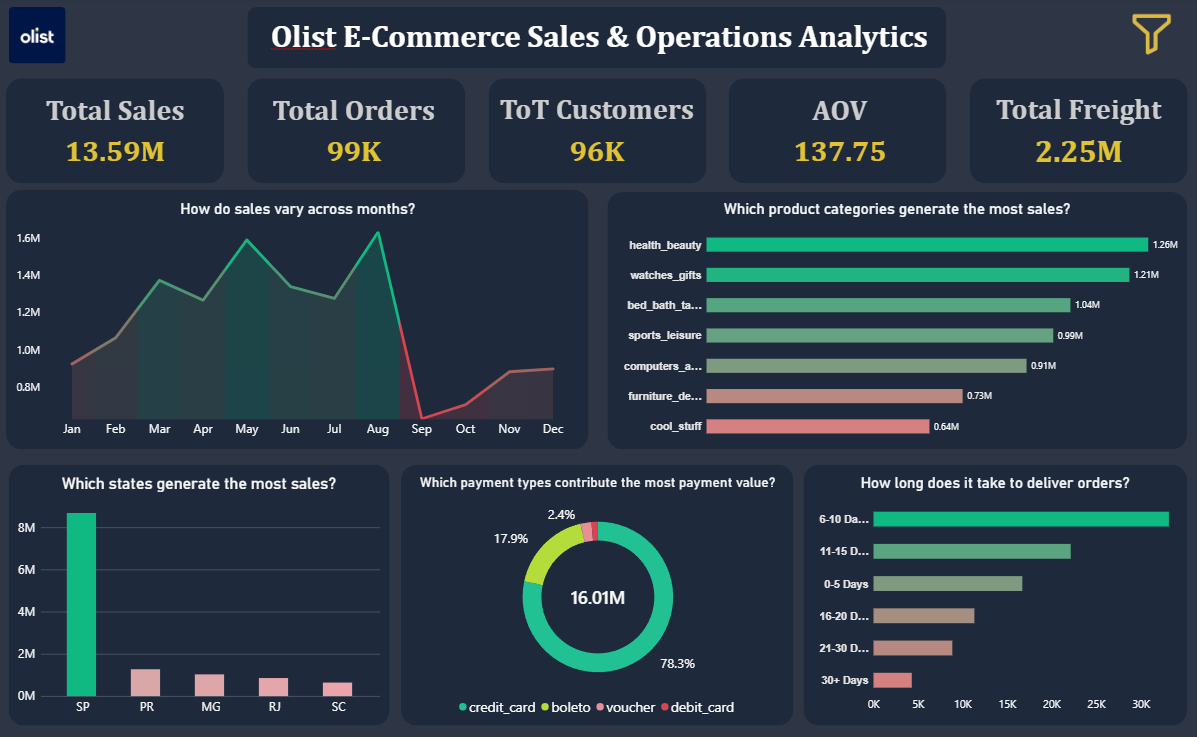

This screenshot's page, from the dashboard's own definition file:
{"tool":"powerbi","page":{"name":"Excutive ","canvas":[2100,1300],"ordinal":0},"visuals":[{"type":"shape","box":[437.8,17.4,1217.7,106.7],"z":0},{"type":"shape","box":[17.5,141.2,379.9,183.3],"z":1000},{"type":"shape","box":[437.3,141.2,379.9,183.3],"z":2000},{"type":"shape","box":[857.2,141.2,379.9,183.3],"z":3000},{"type":"shape","box":[1277,141.2,379.9,183.3],"z":4000},{"type":"shape","box":[1696.9,141.6,379.9,183.3],"z":5000},{"type":"textbox","box":[442.2,37,1217.7,87.1],"z":6000},{"type":"cardVisual","fields":{"Data":["_Measures.Total Sales"]},"box":[17.9,141.2,380,183],"z":7000},{"type":"cardVisual","fields":{"Data":["_Measures.total orders"]},"box":[433.7,141.2,380,183],"z":8000},{"type":"cardVisual","fields":{"Data":["_Measures.total customer"]},"box":[849.5,141.2,395.7,182.9],"z":9000},{"type":"cardVisual","fields":{"Data":["_Measures.Average Order Value (AOV)"]},"box":[1281.1,141.2,380,183],"z":10000},{"type":"cardVisual","fields":{"Data":["_Measures.Total Freight"]},"box":[1696.9,141.6,380,183],"z":11000},{"type":"shape","box":[17.4,335.5,1015.1,453.1],"z":12000},{"type":"lineChart","title":"How do sales vary across months?","fields":{"Category":["dim_date.month name short"],"Y":["_Measures.Total Sales"]},"box":[19.6,339.8,1012.9,448.7],"z":13000},{"type":"shape","box":[1065.2,339.8,1010.7,448.7],"z":14000},{"type":"clusteredBarChart","title":"Which product categories generate the most sales?","fields":{"Category":["dim_product.product_category_name"],"Y":["_Measures.Total Sales"]},"box":[1065.2,339.8,1010.7,448.7],"z":15000},{"type":"shape","box":[21.8,814.7,664.4,455.3],"z":16000},{"type":"shape","box":[705.8,814.7,684,455.3],"z":17000},{"type":"shape","box":[1407.2,814.7,668.7,455.3],"z":18000},{"type":"columnChart","title":"Which states generate the most sales?","fields":{"Category":["dim_location.state"],"Y":["_Measures.Total Sales"]},"box":[20.9,815.9,664.3,455],"z":19000},{"type":"donutChart","title":"Which payment types contribute the most payment value?","fields":{"Category":["fact_payments.payment_type"],"Y":["_Measures.Total Payment"]},"box":[707.9,816.9,681.8,455.3],"z":20000},{"type":"clusteredBarChart","title":"How long does it take to deliver orders?","fields":{"Category":["fact_orders.delivery_days_group"],"Y":["Count(fact_orders.order_id)"]},"box":[1407.2,816.9,668.7,448.7],"z":21000},{"type":"image","box":[1951.8,17.4,124.2,91.5],"z":22000},{"type":"image","box":[21.8,17.4,100.2,98],"z":24000}]}

Visuals, with their boxes in screenshot pixels (x1, y1, x2, y2), scaled from the page's 2100x1300 canvas onto the 1197x737 screenshot:
shape: detection(250, 10, 944, 70)
shape: detection(10, 80, 227, 184)
shape: detection(249, 80, 466, 184)
shape: detection(489, 80, 705, 184)
shape: detection(728, 80, 944, 184)
shape: detection(967, 80, 1184, 184)
textbox: detection(252, 21, 946, 70)
cardVisual - _Measures.Total Sales: detection(10, 80, 227, 184)
cardVisual - _Measures.total orders: detection(247, 80, 464, 184)
cardVisual - _Measures.total customer: detection(484, 80, 710, 184)
cardVisual - _Measures.Average Order Value (AOV): detection(730, 80, 947, 184)
cardVisual - _Measures.Total Freight: detection(967, 80, 1184, 184)
shape: detection(10, 190, 589, 447)
"How do sales vary across months?" lineChart: detection(11, 193, 589, 447)
shape: detection(607, 193, 1183, 447)
"Which product categories generate the most sales?" clusteredBarChart: detection(607, 193, 1183, 447)
shape: detection(12, 462, 391, 720)
shape: detection(402, 462, 792, 720)
shape: detection(802, 462, 1183, 720)
"Which states generate the most sales?" columnChart: detection(12, 463, 391, 721)
"Which payment types contribute the most payment value?" donutChart: detection(404, 463, 792, 721)
"How long does it take to deliver orders?" clusteredBarChart: detection(802, 463, 1183, 717)
image: detection(1113, 10, 1183, 62)
image: detection(12, 10, 70, 65)
